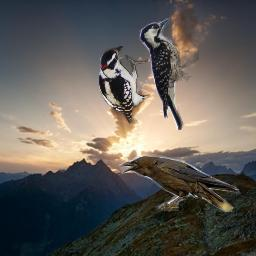Crow: (118, 153, 241, 212)
Woodpecker: (139, 17, 199, 130), (99, 46, 150, 124)
